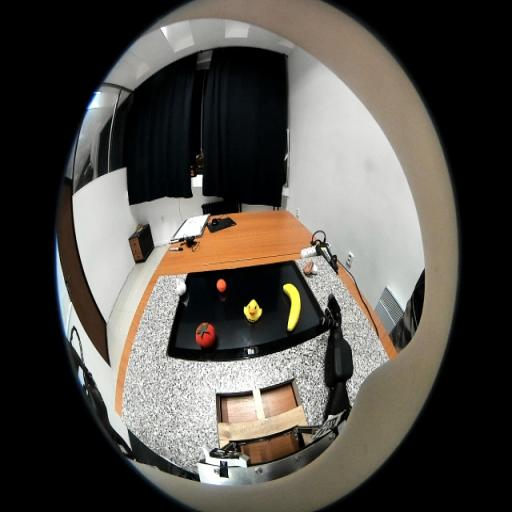Banana: (283, 283, 301, 331)
Duck: (243, 298, 263, 322)
Mushroom: (304, 261, 318, 275)
Onion: (176, 278, 186, 296)
Orange: (216, 278, 226, 293)
RightHand: (330, 312, 342, 332)
Tomato: (195, 322, 216, 347)
